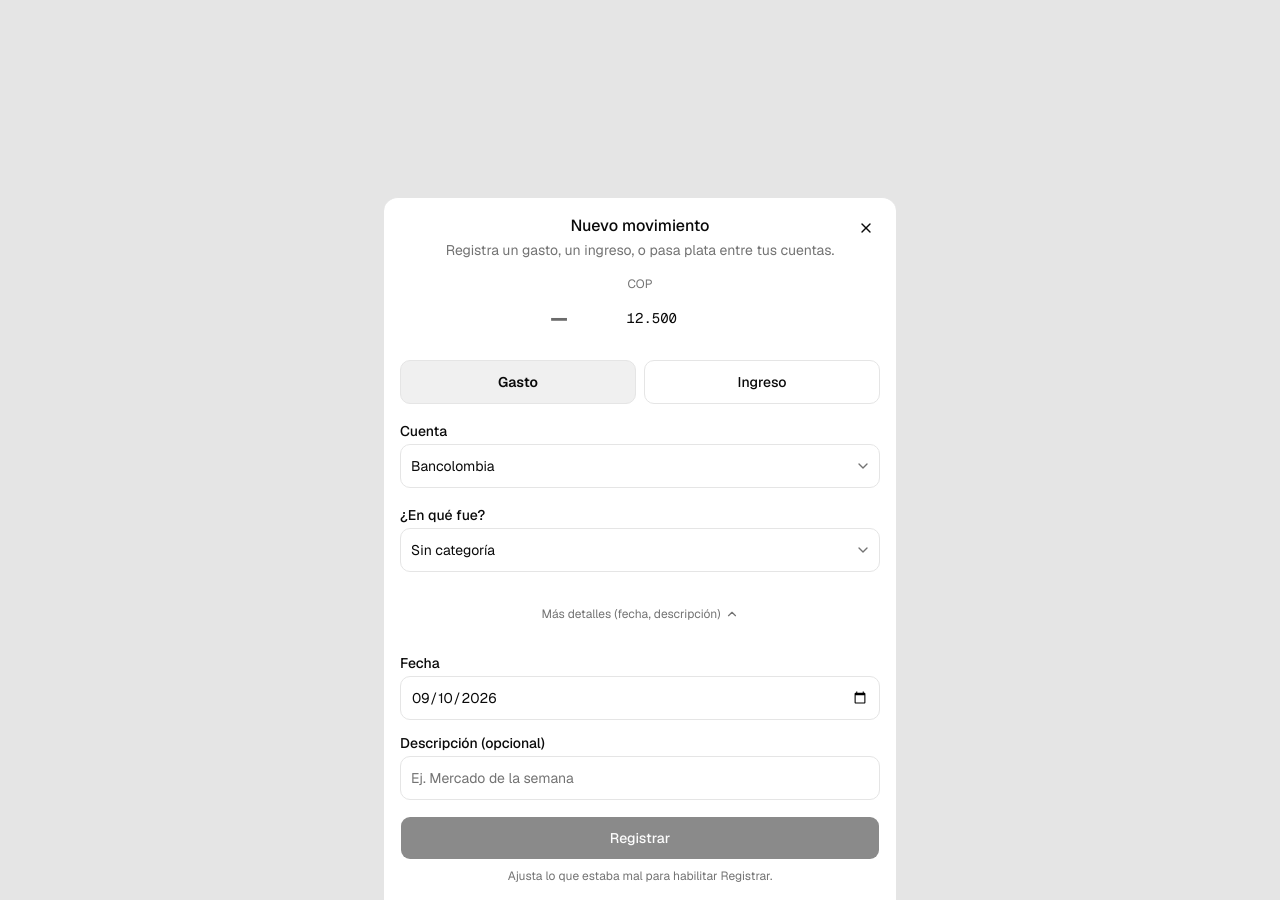
Test: FormularioMovimiento abierto desde afuera (corregir un movimiento) › cambiar la fecha también cuenta como cambio
The width and height of the screenshot is (1280, 900).
Expected: the button "Registrar" is disabled, 400,816 -> 880,860
Type "2026-09-09" into the date field labelled "Fecha" at (640, 698), box 400,676 -> 880,720
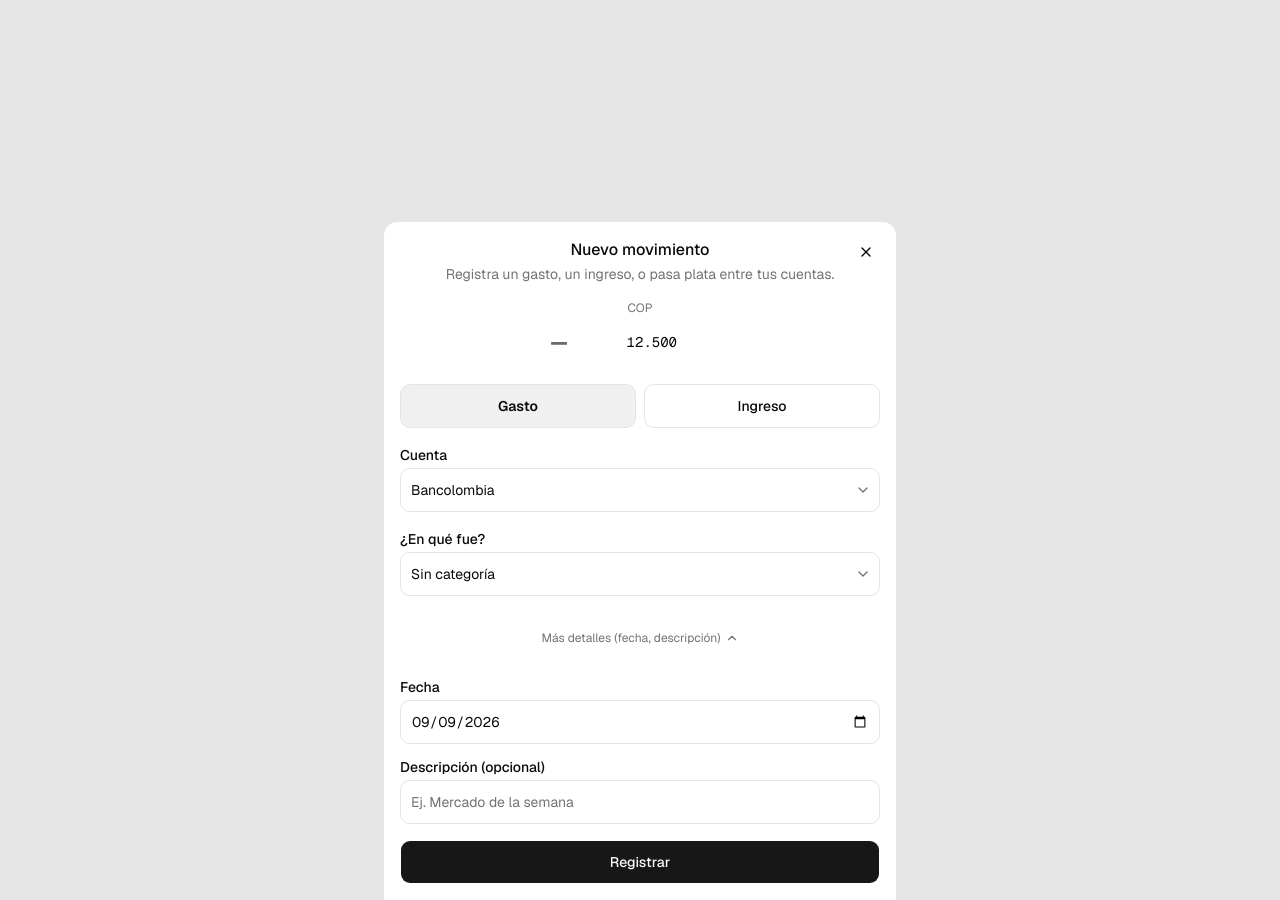
Expected: the button "Registrar" is enabled, 400,840 -> 880,884
